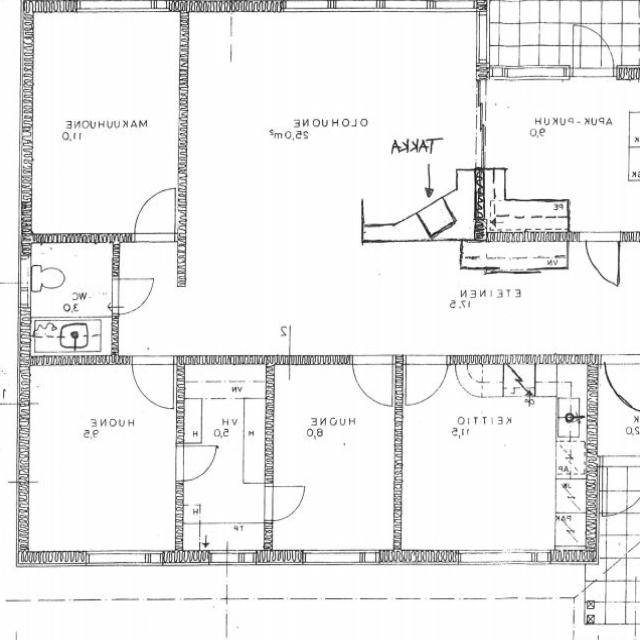door: (404, 344, 458, 411), (129, 346, 181, 412), (566, 22, 623, 80), (135, 179, 179, 253), (587, 216, 625, 286), (169, 438, 222, 488), (109, 272, 157, 327), (353, 353, 395, 411), (265, 480, 308, 530)
